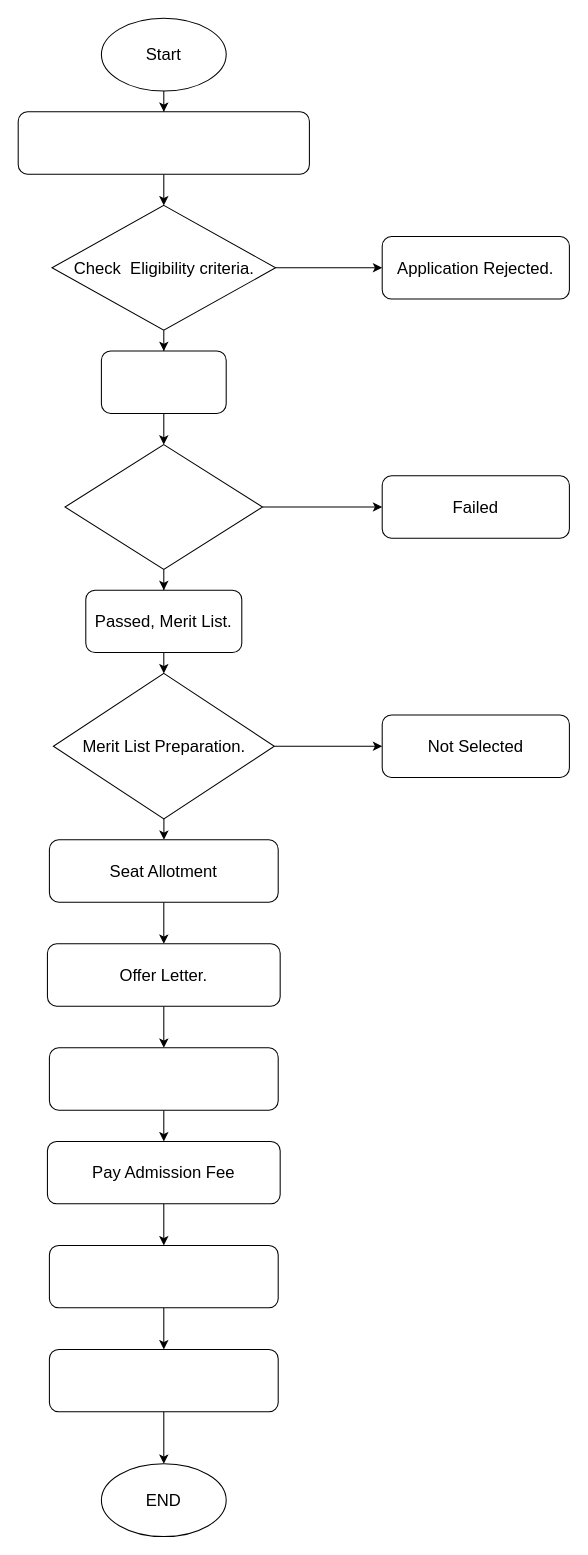
Image size: 588x1555. Some labels were removed from this diagram. The shapes that lost their labels are listed below. From the top down, each one's box as (x1, y1, x2, y2) in pixels, then its label:
(17, 111, 309, 174): Receive Application
(100, 350, 226, 413): Entrance Test.
(64, 444, 263, 569): Entrance Result
(48, 1047, 278, 1110): Acceptance Letter.
(48, 1244, 278, 1308): Documentation verification.
(48, 1348, 278, 1412): Final Admission.
